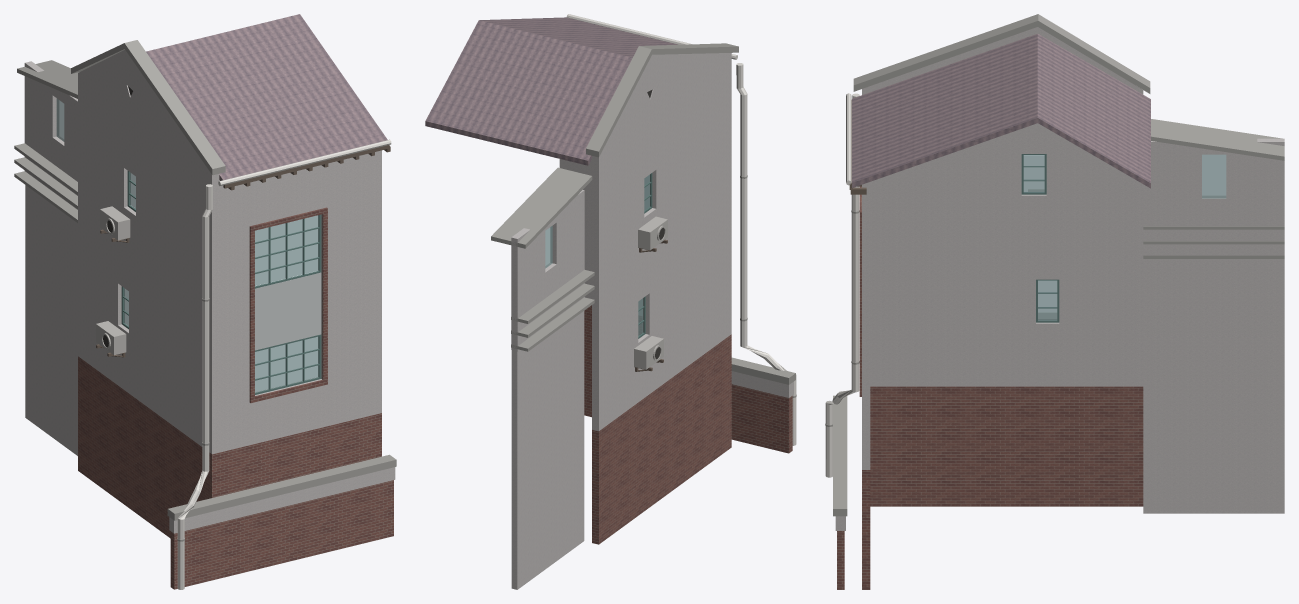
File: changning-huxi-villas-east-row-gable-lod.glb
3 renders of one model, left to right at view 1: azimuth 30°, elevation 25°; view 2: azimuth 150°, elevation 25°; view 3: azimuth 270°, elevation 25°, orthographic. The views are drawn at different scales.
Parts seen in each view (by area): view 1: 沪西别墅东侧临弄山墙与跨层钢窗; view 2: 沪西别墅东侧临弄山墙与跨层钢窗; view 3: 沪西别墅东侧临弄山墙与跨层钢窗.
Boxes of the visible parts, x1,y1,x2,y2 form: 沪西别墅东侧临弄山墙与跨层钢窗: (14, 14, 396, 589); 沪西别墅东侧临弄山墙与跨层钢窗: (425, 14, 796, 589); 沪西别墅东侧临弄山墙与跨层钢窗: (825, 14, 1284, 589).
Size of the model in its own units: 6.04 by 11.98 by 10.23.
11 materials, 3 textured.
